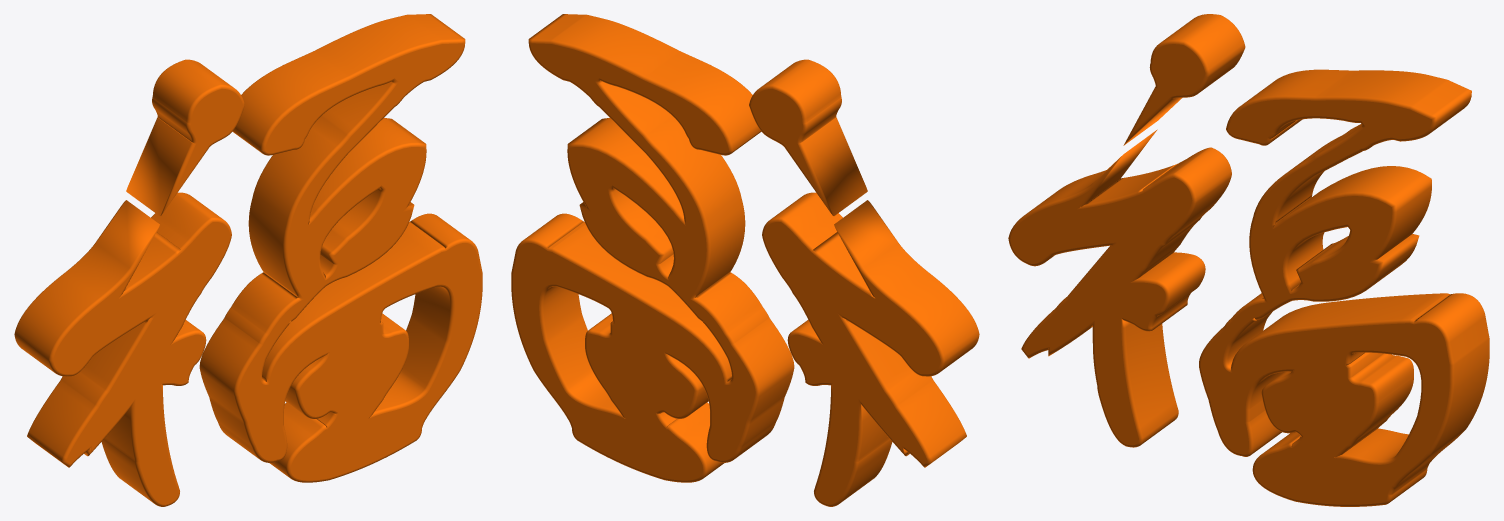
3 views of the same model, side by side, from view 1: azimuth 30°, elevation 25°; view 2: azimuth 150°, elevation 25°; view 3: azimuth 330°, elevation 25° (orthographic). The views are drawn at different scales.
Parts seen in each view (by area): view 1: 文本; view 2: 文本; view 3: 文本.
Part boxes in pixels (x1=…): 文本: x1=14, y1=14, x2=482, y2=506; 文本: x1=511, y1=14, x2=979, y2=506; 文本: x1=1008, y1=14, x2=1489, y2=506.
Bounding box in the file's own units: 0.7435 × 0.6916 × 0.11.
